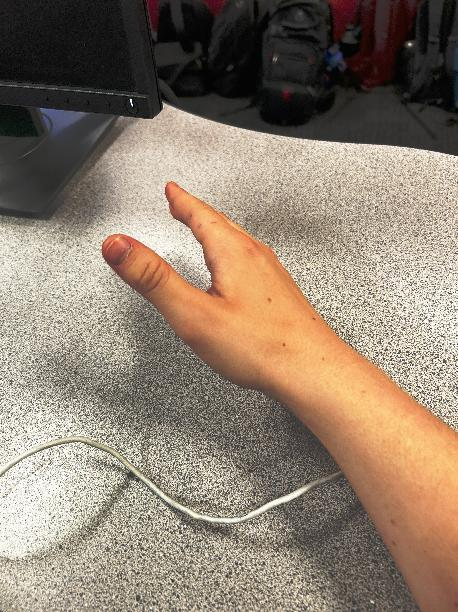Paper: (71, 96, 376, 431)
